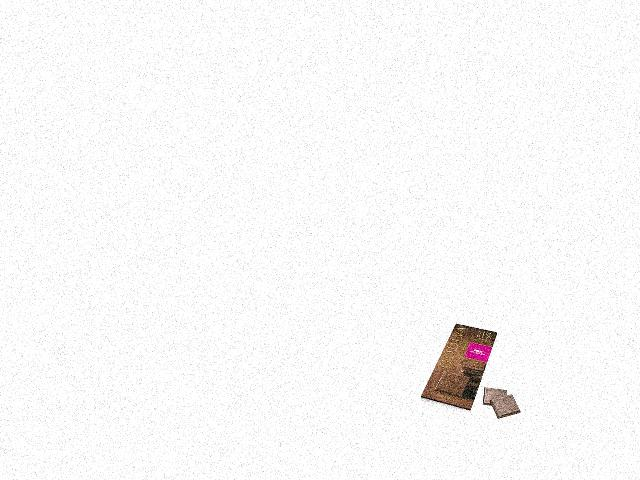chocolate: (420, 322, 498, 412)
